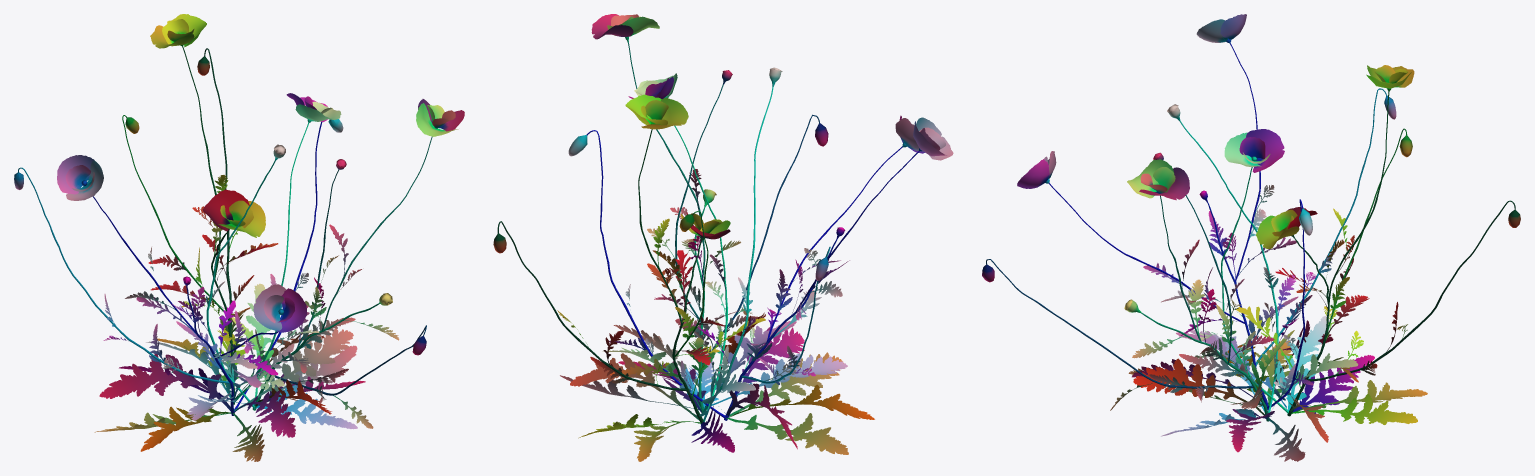
File: Field_Poppy_vmcobd0ja_Raw_vmcobd0ja_VarC_LOD0.fbx
The picture shows the model from 3 angles, left to right: view 1: azimuth 30°, elevation 25°; view 2: azimuth 150°, elevation 25°; view 3: azimuth 270°, elevation 25°; orthographic projection. The views are drawn at different scales.
Parts seen in each view (by area): view 1: _9nfp_VarC_High; view 2: _9nfp_VarC_High; view 3: _9nfp_VarC_High.
Part boxes in pixels (<box>): _9nfp_VarC_High: <box>14,14,464,461</box>; _9nfp_VarC_High: <box>493,14,953,461</box>; _9nfp_VarC_High: <box>982,14,1520,461</box>.
Bounding box in the file's own units: 77.47 × 69.01 × 97.27.
